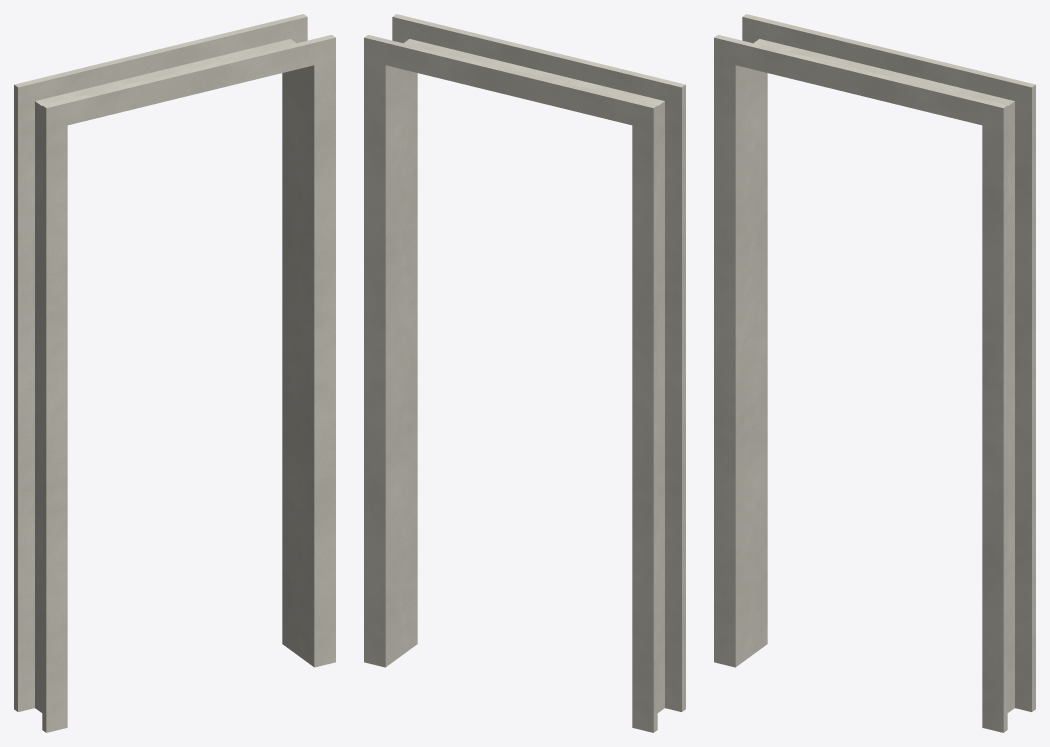
Rendered from PZ_InteriorTrim_V13_DoorCasing_900x2100.glb.
3 renders of one model, left to right at view 1: azimuth 30°, elevation 25°; view 2: azimuth 150°, elevation 25°; view 3: azimuth 330°, elevation 25°, orthographic.
Parts seen in each view (by area): view 1: V13_DoorCasing_900x2100__Front_Casing_MiterLeft, V13_DoorCasing_900x2100__Front_Casing_MiterRight, V13_DoorCasing_900x2100__Jamb_InnerRight, V13_DoorCasing_900x2100__Rear_Casing_MiterLeft, V13_DoorCasing_900x2100__Front_Casing_MiterHead, V13_DoorCasing_900x2100__Rear_Casing_MiterHead, V13_DoorCasing_900x2100__Jamb_InnerLeft, V13_DoorCasing_900x2100__Rear_Casing_MiterRight, V13_DoorCasing_900x2100__Jamb_Head; view 2: V13_DoorCasing_900x2100__Rear_Casing_MiterLeft, V13_DoorCasing_900x2100__Rear_Casing_MiterRight, V13_DoorCasing_900x2100__Jamb_InnerRight, V13_DoorCasing_900x2100__Front_Casing_MiterLeft, V13_DoorCasing_900x2100__Rear_Casing_MiterHead, V13_DoorCasing_900x2100__Front_Casing_MiterHead, V13_DoorCasing_900x2100__Jamb_InnerLeft, V13_DoorCasing_900x2100__Front_Casing_MiterRight, V13_DoorCasing_900x2100__Jamb_Head; view 3: V13_DoorCasing_900x2100__Front_Casing_MiterRight, V13_DoorCasing_900x2100__Front_Casing_MiterLeft, V13_DoorCasing_900x2100__Jamb_InnerLeft, V13_DoorCasing_900x2100__Rear_Casing_MiterRight, V13_DoorCasing_900x2100__Front_Casing_MiterHead, V13_DoorCasing_900x2100__Rear_Casing_MiterHead, V13_DoorCasing_900x2100__Jamb_InnerRight, V13_DoorCasing_900x2100__Rear_Casing_MiterLeft, V13_DoorCasing_900x2100__Jamb_Head.
Boxes of the visible parts, left/top/right/bottom form: V13_DoorCasing_900x2100__Front_Casing_MiterLeft: left=42, top=105, right=67, bottom=732; V13_DoorCasing_900x2100__Front_Casing_MiterRight: left=310, top=38, right=335, bottom=667; V13_DoorCasing_900x2100__Jamb_InnerRight: left=286, top=66, right=310, bottom=664; V13_DoorCasing_900x2100__Rear_Casing_MiterLeft: left=14, top=85, right=34, bottom=711; V13_DoorCasing_900x2100__Front_Casing_MiterHead: left=43, top=35, right=335, bottom=125; V13_DoorCasing_900x2100__Rear_Casing_MiterHead: left=14, top=14, right=306, bottom=100; V13_DoorCasing_900x2100__Jamb_InnerLeft: left=35, top=106, right=42, bottom=712; V13_DoorCasing_900x2100__Rear_Casing_MiterRight: left=282, top=17, right=307, bottom=646; V13_DoorCasing_900x2100__Jamb_Head: left=35, top=39, right=295, bottom=110; V13_DoorCasing_900x2100__Rear_Casing_MiterLeft: left=632, top=105, right=657, bottom=732; V13_DoorCasing_900x2100__Rear_Casing_MiterRight: left=364, top=38, right=389, bottom=667; V13_DoorCasing_900x2100__Jamb_InnerRight: left=389, top=66, right=413, bottom=664; V13_DoorCasing_900x2100__Front_Casing_MiterLeft: left=665, top=85, right=685, bottom=711; V13_DoorCasing_900x2100__Rear_Casing_MiterHead: left=364, top=35, right=656, bottom=125; V13_DoorCasing_900x2100__Front_Casing_MiterHead: left=393, top=14, right=685, bottom=100; V13_DoorCasing_900x2100__Jamb_InnerLeft: left=657, top=106, right=664, bottom=712; V13_DoorCasing_900x2100__Front_Casing_MiterRight: left=392, top=17, right=417, bottom=646; V13_DoorCasing_900x2100__Jamb_Head: left=404, top=39, right=664, bottom=110; V13_DoorCasing_900x2100__Front_Casing_MiterRight: left=982, top=105, right=1007, bottom=732; V13_DoorCasing_900x2100__Front_Casing_MiterLeft: left=714, top=38, right=739, bottom=667; V13_DoorCasing_900x2100__Jamb_InnerLeft: left=739, top=66, right=763, bottom=664; V13_DoorCasing_900x2100__Rear_Casing_MiterRight: left=1015, top=85, right=1035, bottom=711; V13_DoorCasing_900x2100__Front_Casing_MiterHead: left=714, top=35, right=1006, bottom=125; V13_DoorCasing_900x2100__Rear_Casing_MiterHead: left=743, top=14, right=1035, bottom=100; V13_DoorCasing_900x2100__Jamb_InnerRight: left=1007, top=106, right=1014, bottom=712; V13_DoorCasing_900x2100__Rear_Casing_MiterLeft: left=742, top=17, right=767, bottom=646; V13_DoorCasing_900x2100__Jamb_Head: left=754, top=39, right=1014, bottom=110.
Bounding box in the file's own units: 1.06 × 2.18 × 0.204.
Materials: 1 (1 with a texture image).
